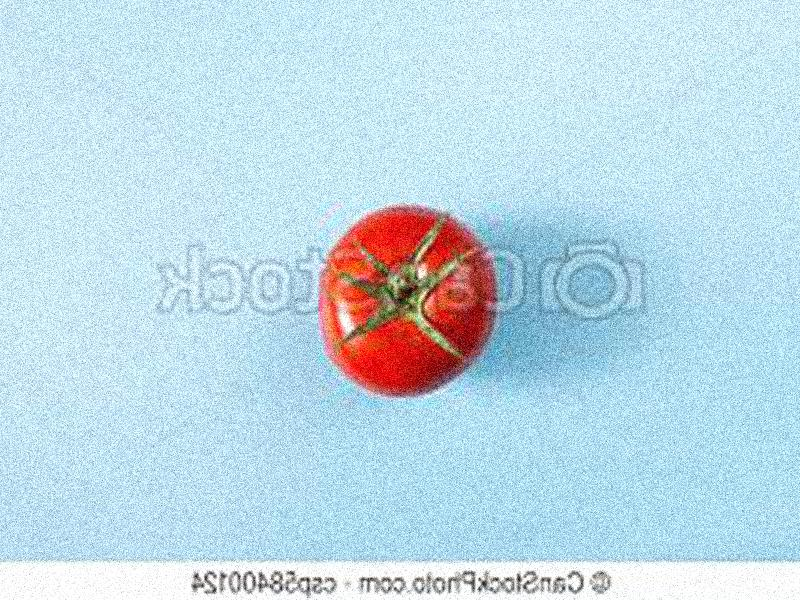Tomato: (321, 206, 492, 400)
